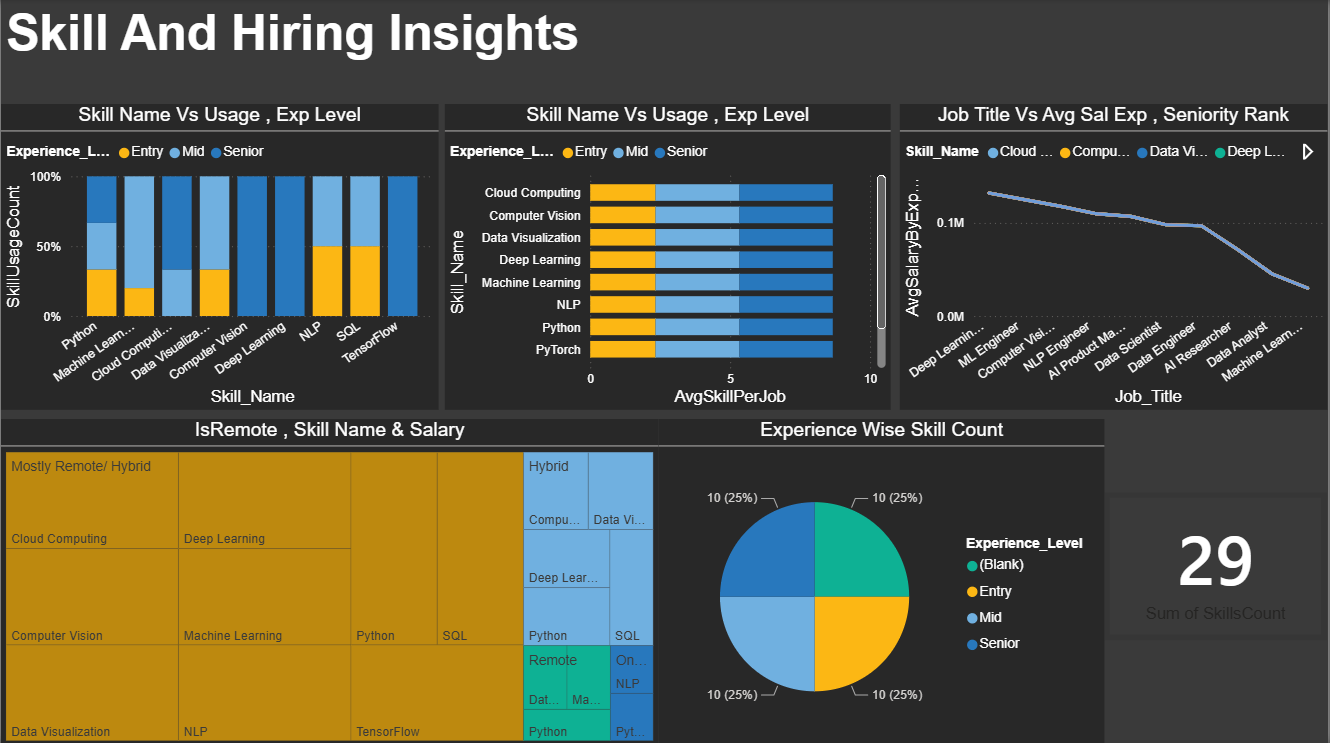

The page's visual inventory and layout, read from the dashboard file:
{"tool":"powerbi","page":{"name":"Skill And Hiring Insights","canvas":[1280,720],"ordinal":3},"visuals":[{"type":"textbox","box":[0,0,639.5,101.5],"z":0},{"type":"hundredPercentStackedColumnChart","title":"Skill Name Vs Usage , Exp Level ","fields":{"Series":["Fact_Jobs.Experience_Level"],"Category":["Dim_Skills.Skill_Name"],"Y":["Dim_Skills.SkillUsageCount"]},"box":[0,101.3,422.3,295.6],"z":1},{"type":"treemap","title":"IsRemote , Skill Name & Salary","fields":{"Group":["Fact_Jobs.IsRemote"],"Details":["Dim_Skills.Skill_Name"],"Values":["Sum(Fact_Jobs.Salary_USD)"]},"box":[0,405.4,634.6,314.9],"z":2},{"type":"cardVisual","title":"TotalJobs","fields":{"Data":["Sum(Fact_Jobs.SkillsCount)"]},"box":[1065.3,476.5,214.7,142.4],"z":3},{"type":"lineChart","title":"Job Title Vs Avg Sal Exp , Seniority Rank","fields":{"Category":["Fact_Jobs.Job_Title"],"Series":["Dim_Skills.Skill_Name"],"Y":["Fact_Jobs.AvgSalaryByExperience"]},"box":[867.4,101.3,412.6,295.6],"z":4},{"type":"barChart","title":"Skill Name Vs Usage , Exp Level ","fields":{"Y":["Fact_Job_Skills.AvgSkillPerJob"],"Series":["Fact_Jobs.Experience_Level"],"Category":["Dim_Skills.Skill_Name"]},"box":[428.3,101.3,430.7,295.6],"z":5},{"type":"pieChart","title":"Experience Wise Skill Count","fields":{"Category":["Fact_Jobs.Experience_Level"],"Y":["CountNonNull(Dim_Skills.Skill_Name)"]},"box":[634.6,405.4,430.7,314.9],"z":6}]}

Visuals, with their boxes in screenshot pixels (x1, y1, x2, y2), scaled from the page's 1280x720 canvas onto the 1330x743 screenshot:
textbox: [0, 0, 664, 105]
"Skill Name Vs Usage , Exp Level " hundredPercentStackedColumnChart: [0, 105, 439, 410]
"IsRemote , Skill Name & Salary" treemap: [0, 418, 659, 742]
"TotalJobs" cardVisual: [1107, 492, 1329, 639]
"Job Title Vs Avg Sal Exp , Seniority Rank" lineChart: [901, 105, 1329, 410]
"Skill Name Vs Usage , Exp Level " barChart: [445, 105, 893, 410]
"Experience Wise Skill Count" pieChart: [659, 418, 1107, 742]
